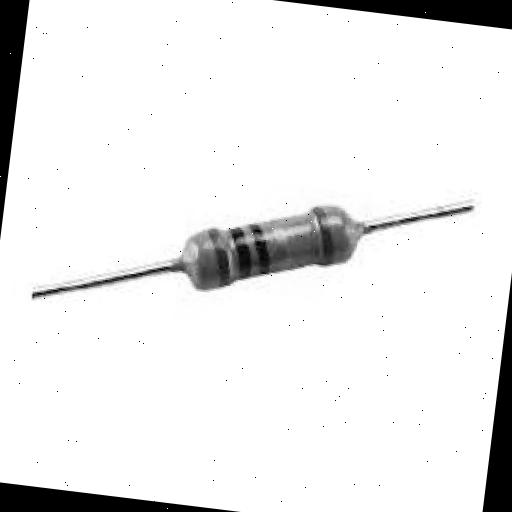RESISTOR: (90, 148, 426, 356)
